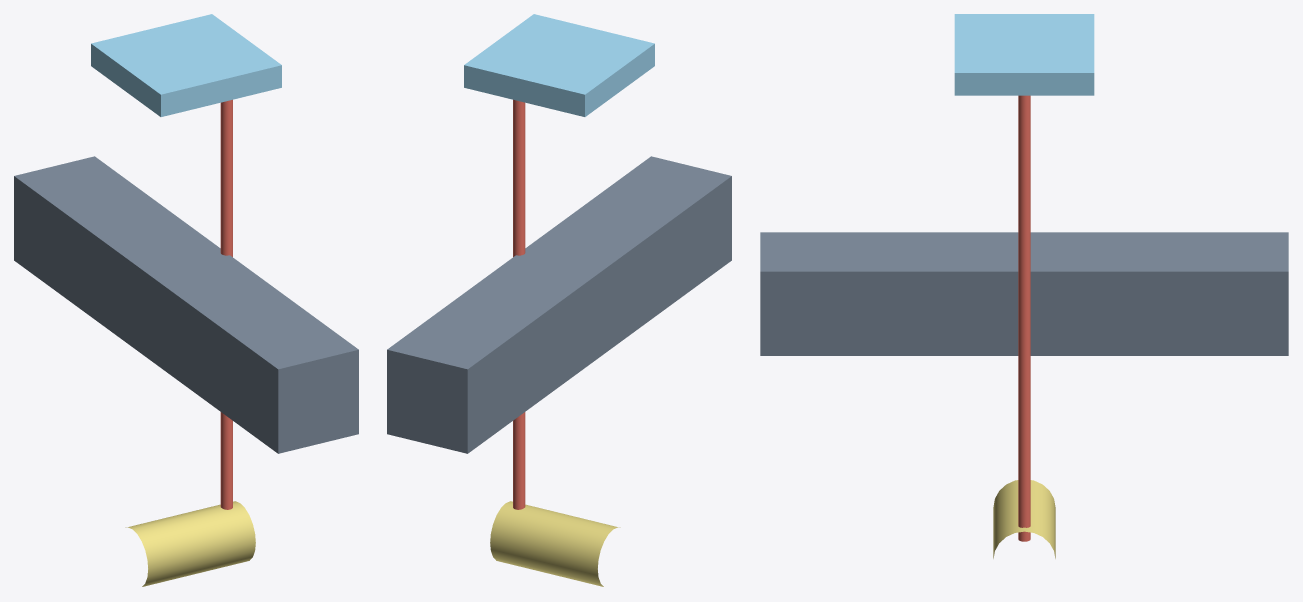
The model's file is is800_steel_column_buckling_curves.glb.
The picture shows the model from 3 angles, left to right: view 1: azimuth 30°, elevation 25°; view 2: azimuth 150°, elevation 25°; view 3: azimuth 270°, elevation 25°; orthographic projection.
Parts seen in each view (by area): view 1: UniversalSteelColumnISection, TopAxialCompressiveForceCap, PinEndedBaseSupportHinge, ParabolicEulerBucklingDisplacementCurve; view 2: UniversalSteelColumnISection, TopAxialCompressiveForceCap, PinEndedBaseSupportHinge, ParabolicEulerBucklingDisplacementCurve; view 3: UniversalSteelColumnISection, TopAxialCompressiveForceCap, ParabolicEulerBucklingDisplacementCurve, PinEndedBaseSupportHinge.
Boxes of the visible parts, x1,y1,x2,y2 form: UniversalSteelColumnISection: (14,156,358,453); TopAxialCompressiveForceCap: (91,14,281,116); PinEndedBaseSupportHinge: (125,501,255,586); ParabolicEulerBucklingDisplacementCurve: (220,99,232,509); UniversalSteelColumnISection: (387,156,731,453); TopAxialCompressiveForceCap: (464,14,654,116); PinEndedBaseSupportHinge: (490,501,620,586); ParabolicEulerBucklingDisplacementCurve: (513,99,525,509); UniversalSteelColumnISection: (760,232,1288,355); TopAxialCompressiveForceCap: (954,14,1094,95); ParabolicEulerBucklingDisplacementCurve: (1018,95,1030,541); PinEndedBaseSupportHinge: (993,480,1055,558).
Bounding box in the file's own units: 0.45 × 1.84 × 1.7.
